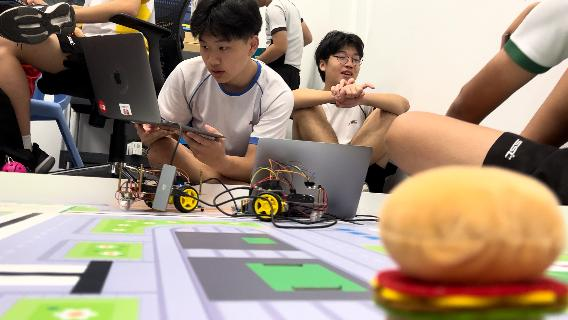burger: (375, 164, 568, 320)
